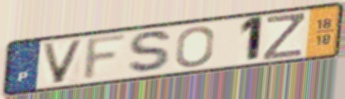1: (237, 14, 265, 64)
F: (80, 31, 131, 83)
O: (173, 24, 217, 69)
S: (125, 29, 176, 75)
V: (39, 38, 87, 86)
Z: (261, 12, 306, 62)
